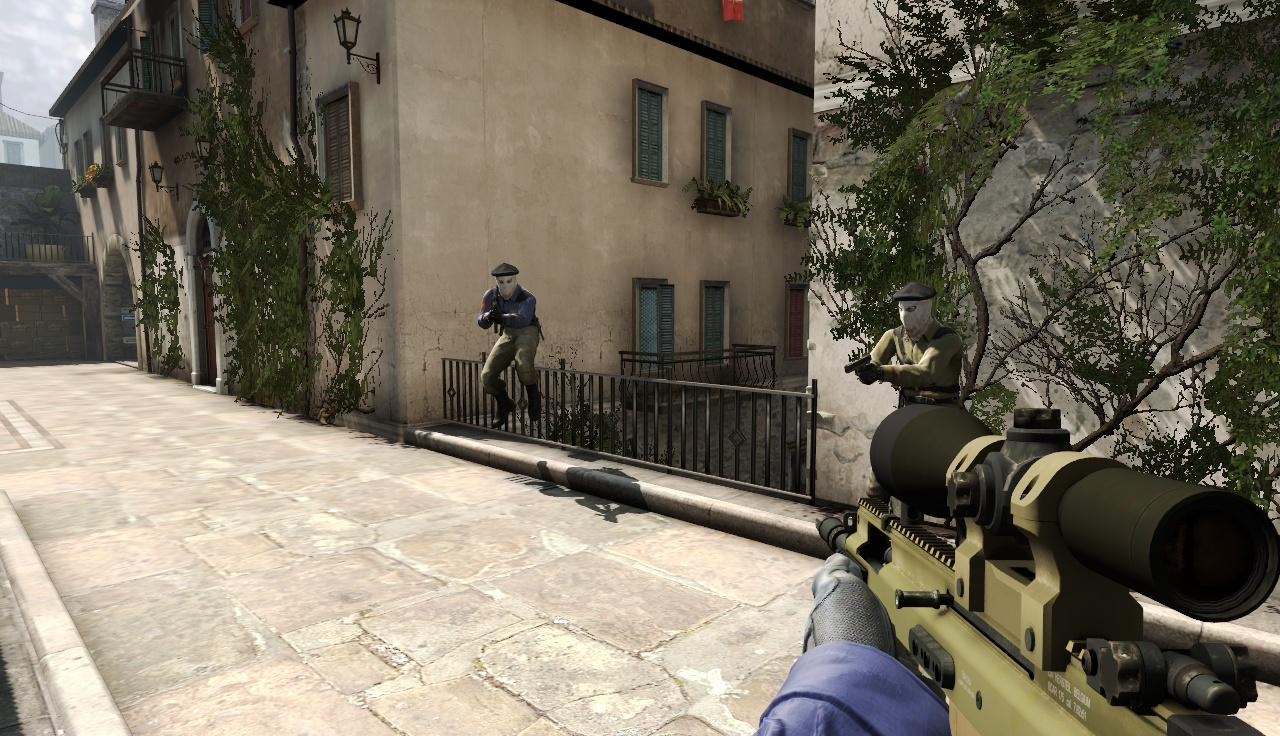sniper: (819, 402, 1280, 736)
tt: (881, 284, 962, 400), (483, 264, 540, 418)
tthead: (894, 284, 936, 335), (492, 265, 517, 297)
